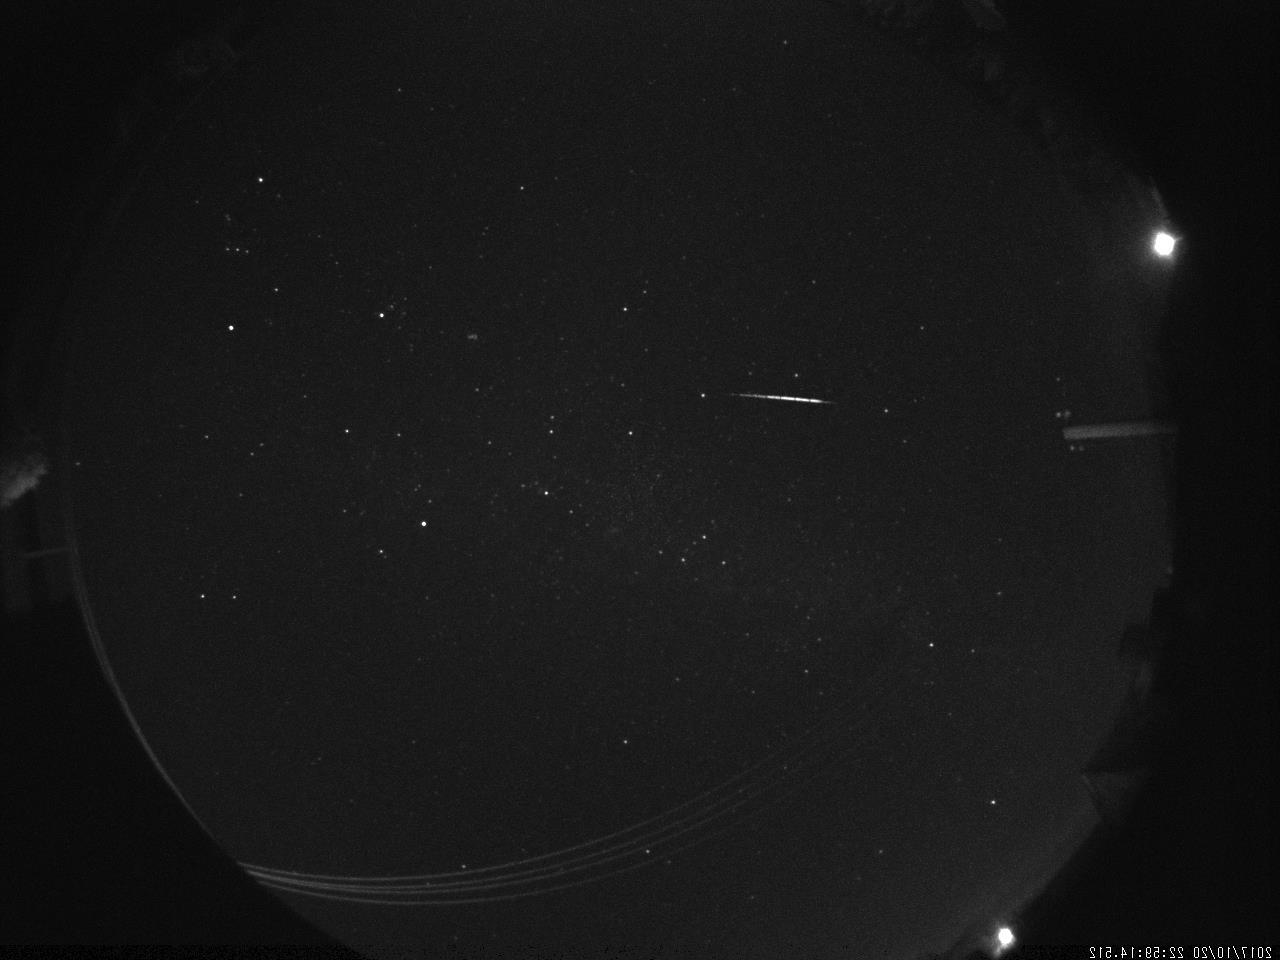meteor: (681, 382, 848, 420)
